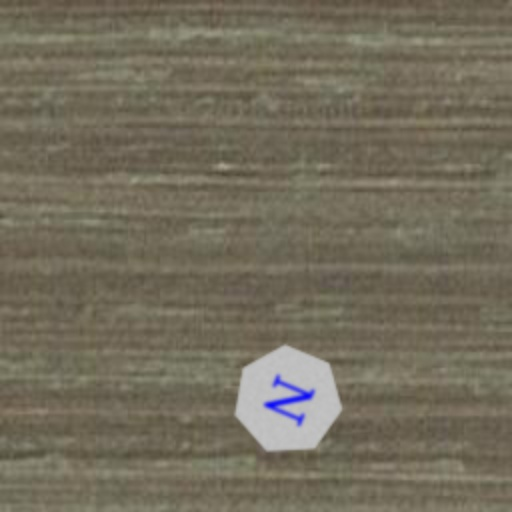heptagon: (214, 326, 362, 474)
